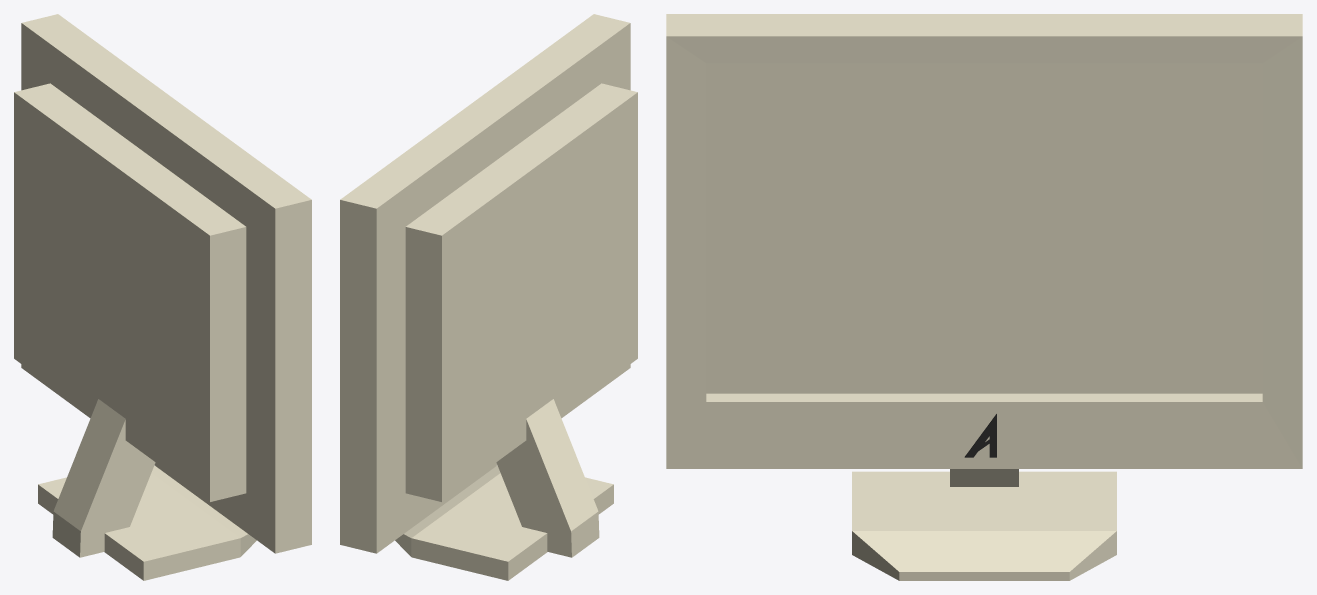
Rendered from monitor.fbx.
3 views of the same model, side by side, from view 1: azimuth 30°, elevation 25°; view 2: azimuth 150°, elevation 25°; view 3: azimuth 270°, elevation 25° (orthographic). The views are drawn at different scales.
Visible parts, largest first — view 1: Cube.001; view 2: Cube.001; view 3: Cube.001.
Boxes of the visible parts, bbox=[...] form: Cube.001: bbox=[14, 14, 311, 580]; Cube.001: bbox=[340, 14, 637, 580]; Cube.001: bbox=[666, 14, 1302, 580].
Size of the model in its own units: 179 by 430 by 480.
